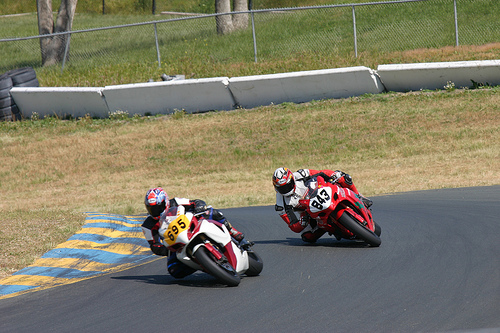helmet: (144, 189, 169, 216), (270, 172, 294, 194)
